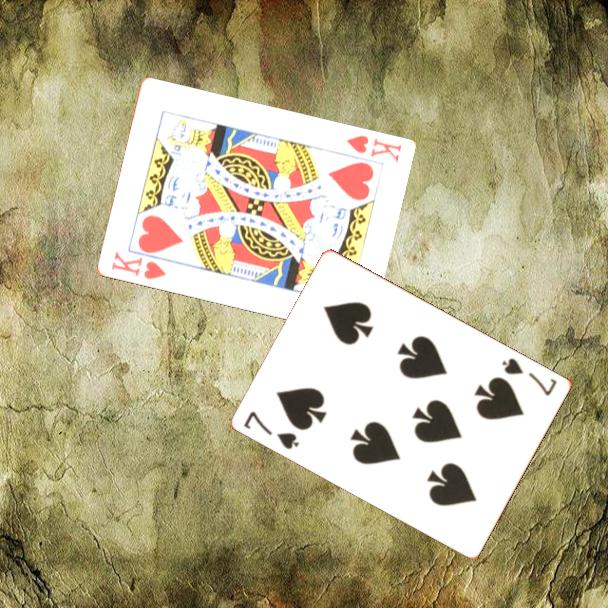h13: (108, 248, 169, 283), (342, 132, 404, 166)
s07: (499, 354, 560, 399), (240, 408, 302, 452)
